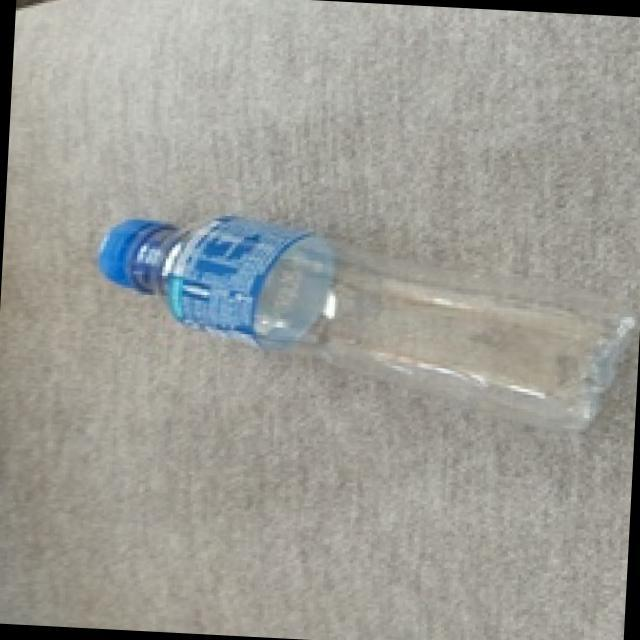good: (85, 206, 640, 437)
